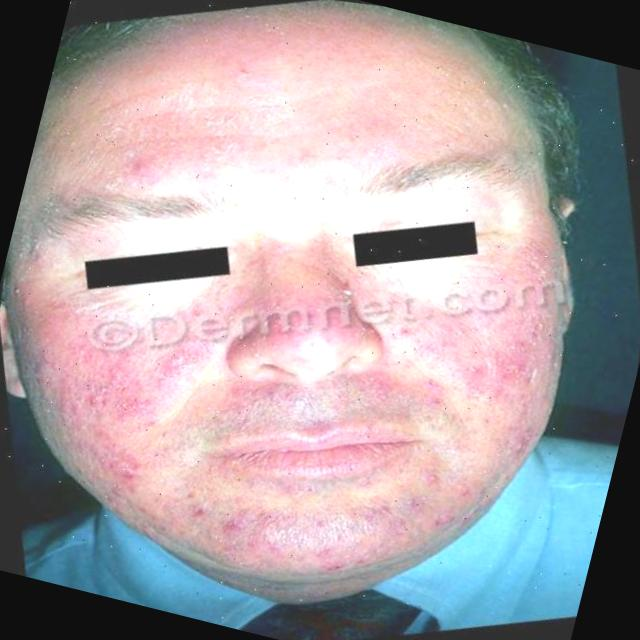skinredness: (12, 168, 585, 640)
